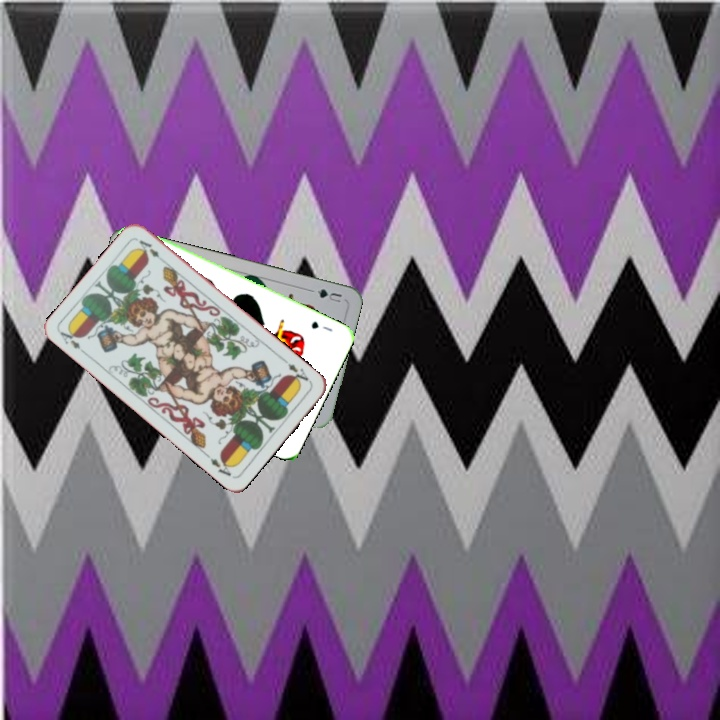EA: (56, 325, 90, 358), (279, 355, 313, 387)
GU: (307, 285, 344, 305), (307, 317, 335, 334)
